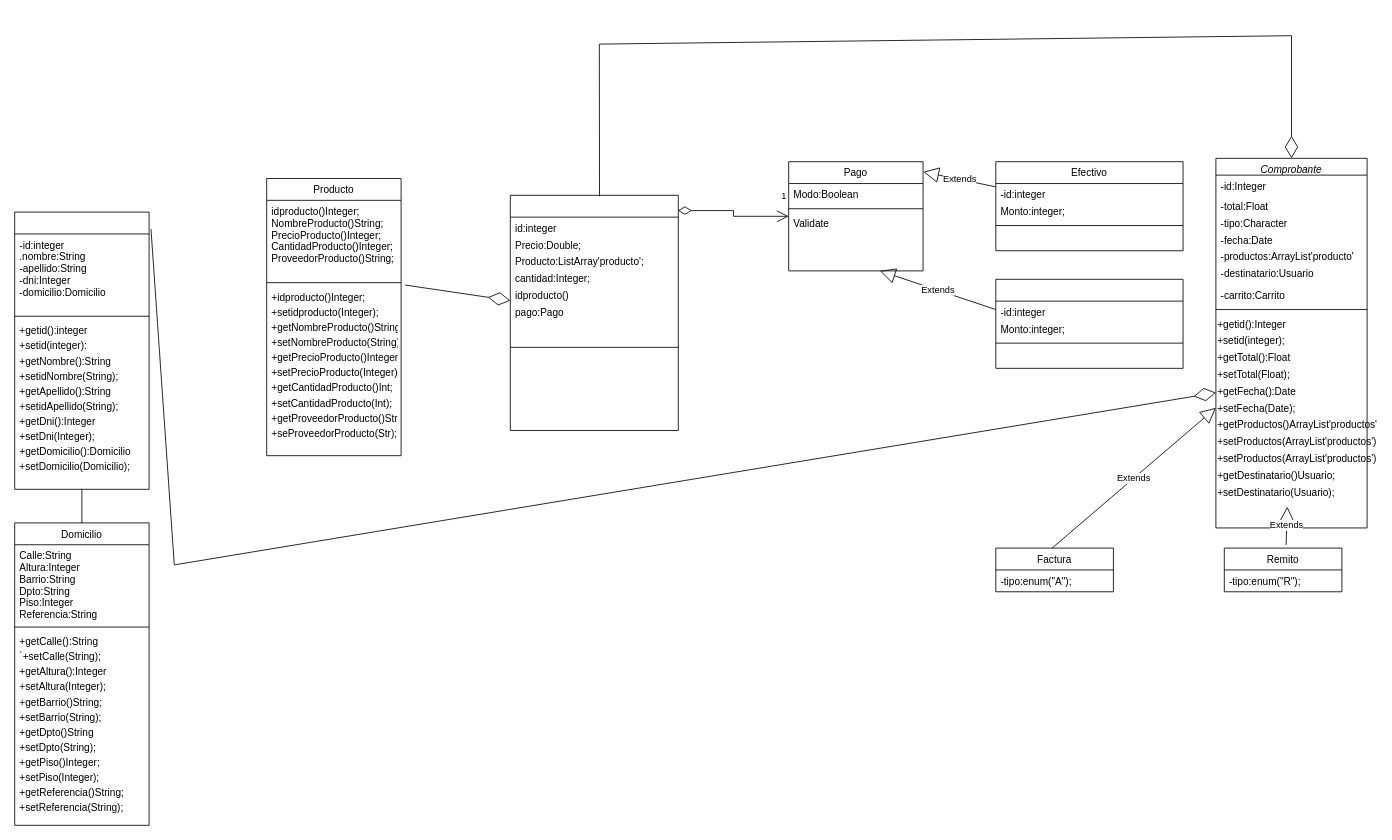
The diagram is 1392 pixels wide and 840 high, and some of its shapes have lost their labels. The box of each missing label's shape, as (x1, y1, x2, y2) in pixels:
Carrito: (509, 194, 678, 430)
Tranferencia: (995, 278, 1183, 368)
Usuario: (14, 211, 149, 489)
